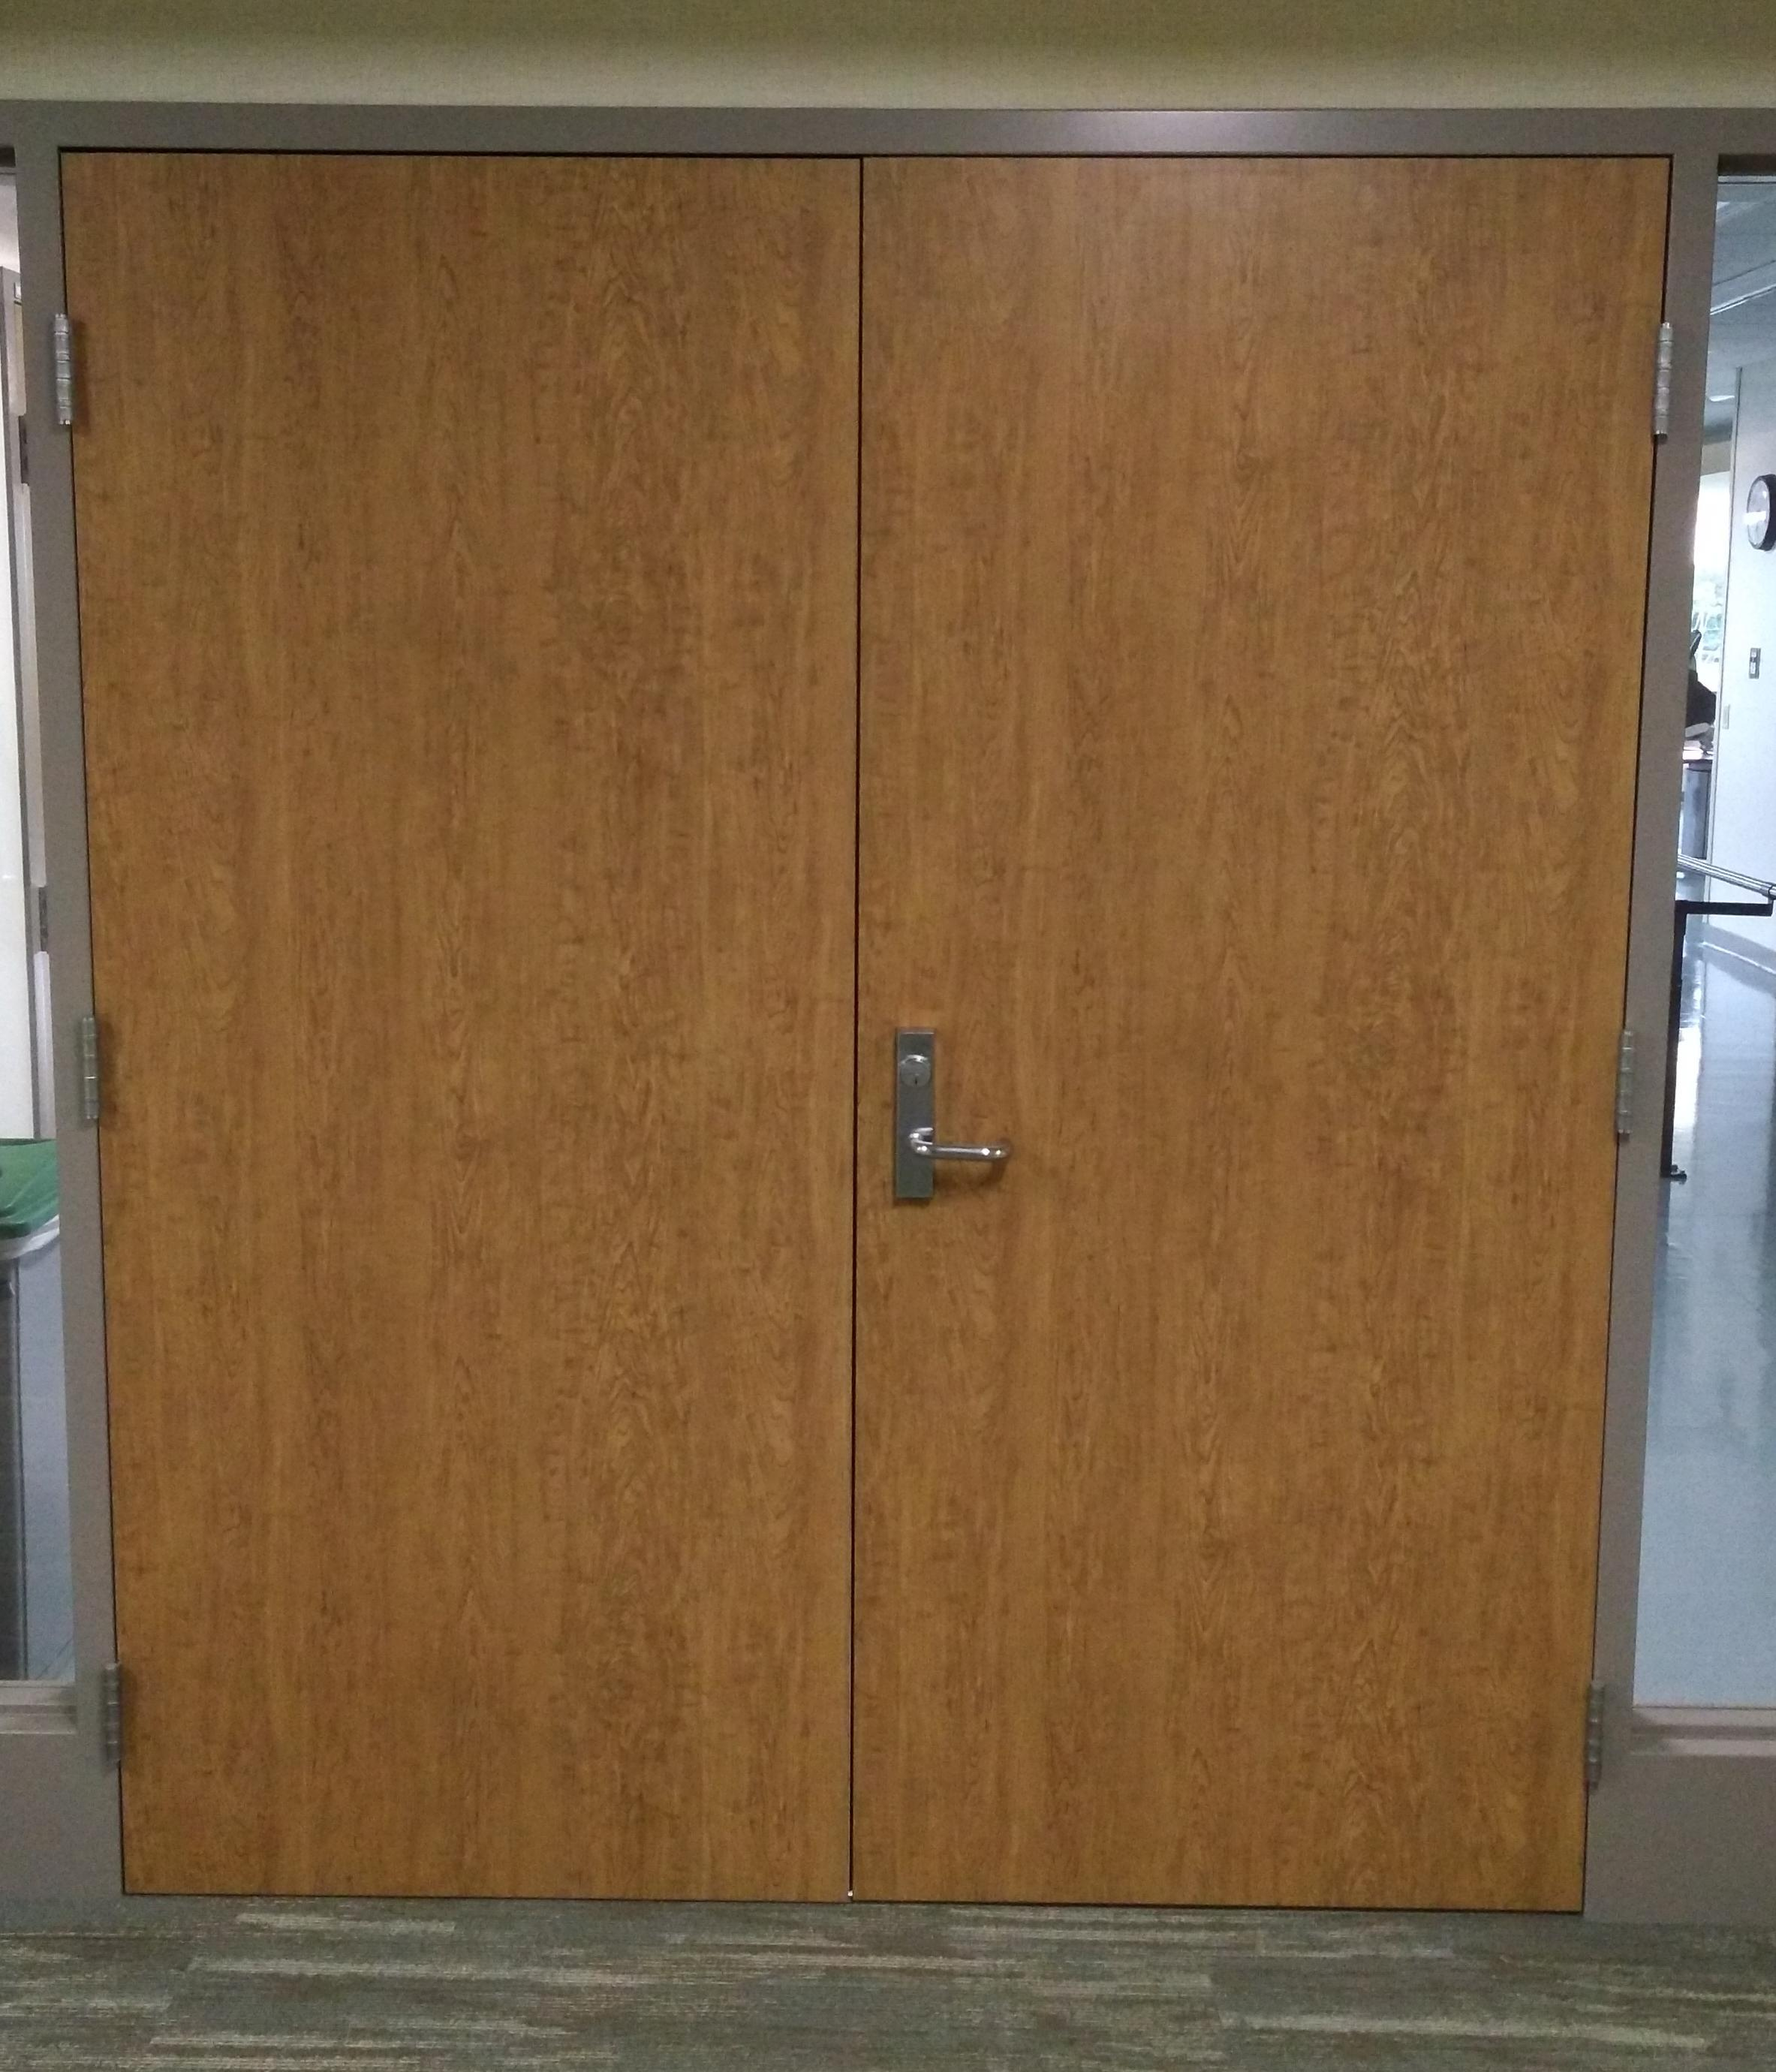door: (37, 107, 1609, 1929)
